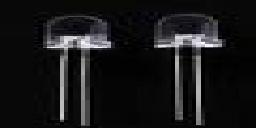LED: (41, 15, 112, 128), (152, 10, 228, 63)
